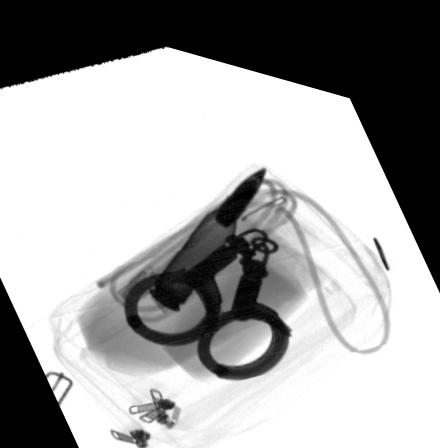Bullet: (147, 151, 268, 301)
HandCuffs: (118, 209, 295, 370)
